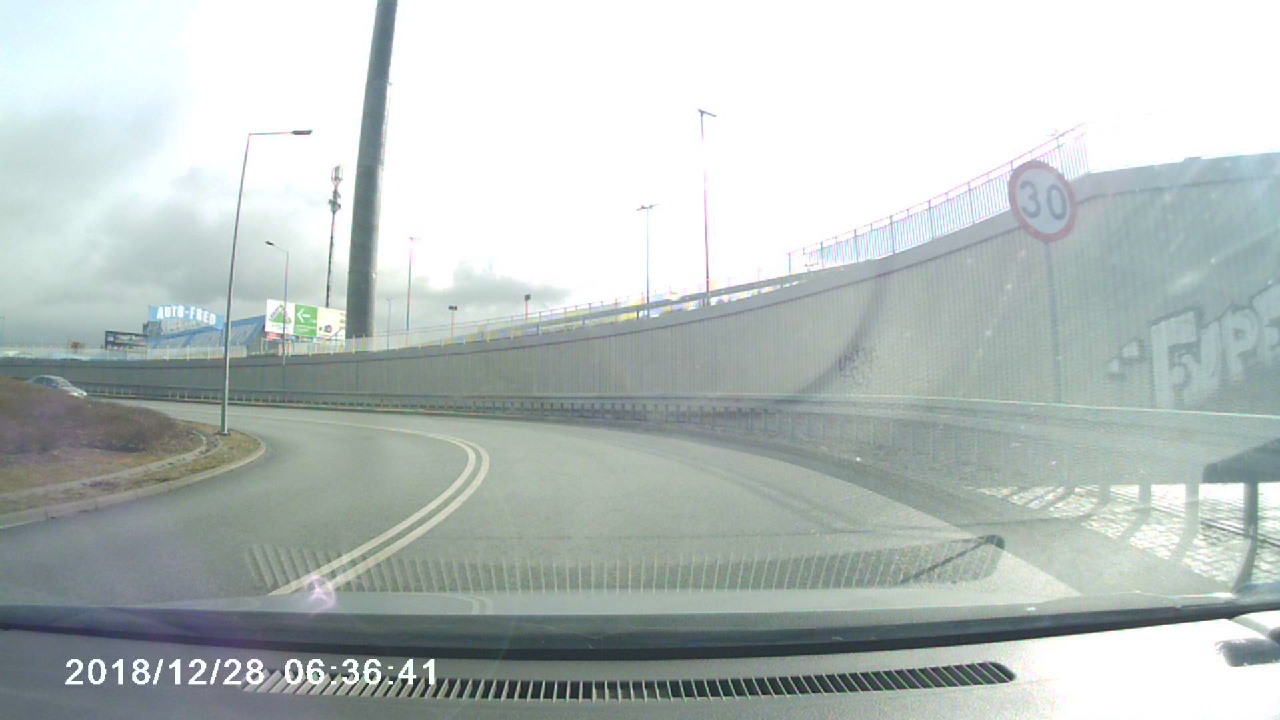B33_30: (1003, 157, 1083, 242)
